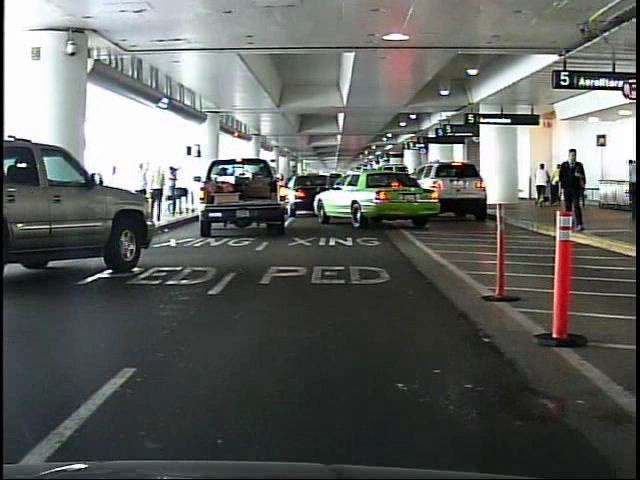person: (559, 142, 592, 238), (166, 164, 183, 221), (535, 160, 550, 207)
